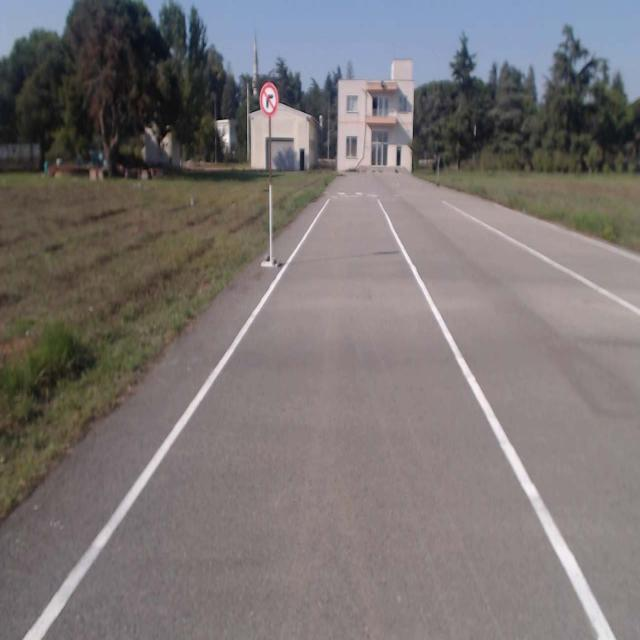sagadonulmez: (260, 83, 279, 117)
